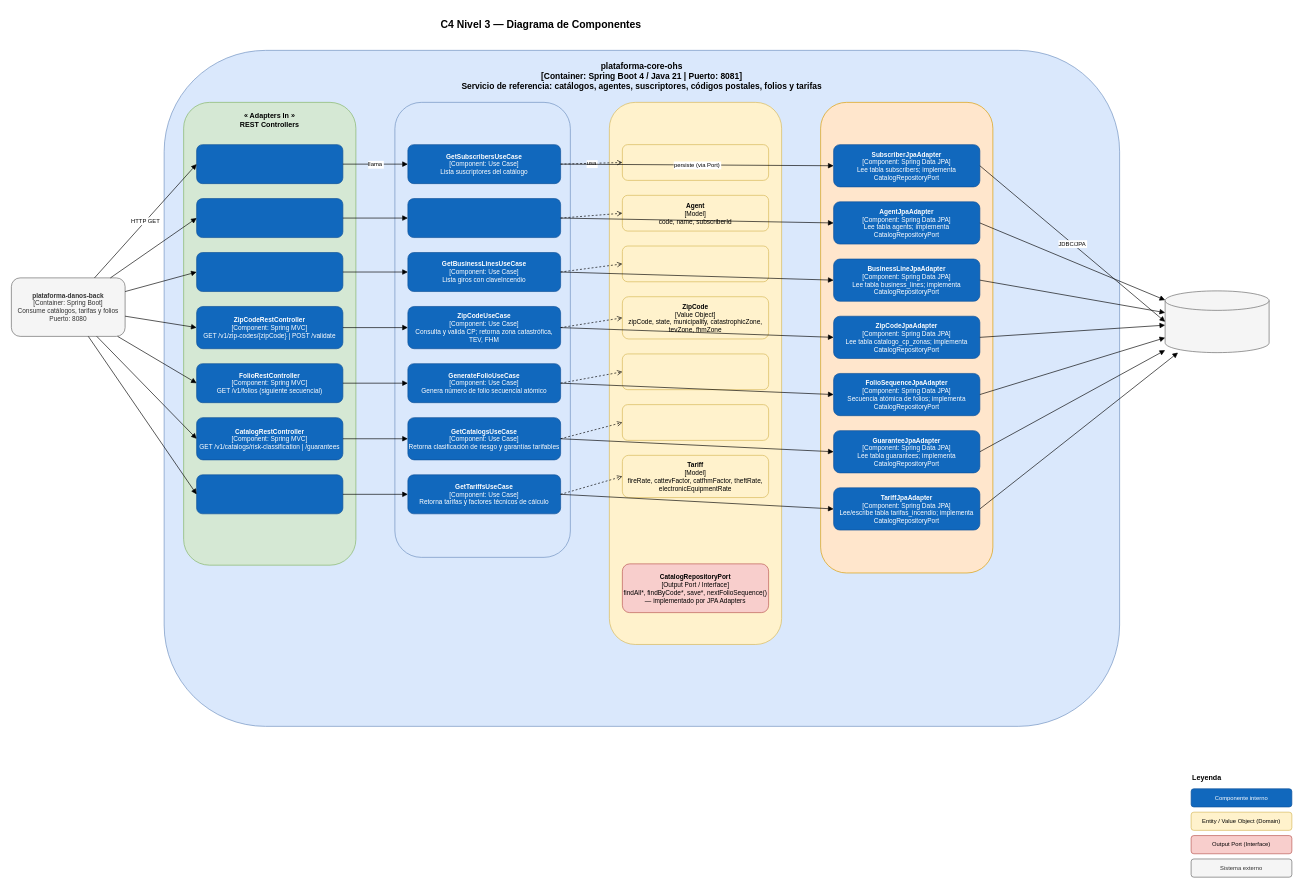
This 1303x889 diagram has some shape labels left out. The shapes that lost their labels are listed below. From the top down, each one's box as (x1, y1, x2, y2) in pixels, then its label:
(196, 144, 343, 184): SubscriberRestController [Component: Spring MVC] GET /v1/subscribers
(622, 144, 769, 180): Subscriber [Model] id, name
(196, 198, 343, 238): AgentRestController [Component: Spring MVC] GET /v1/agents
(407, 198, 561, 238): GetAgentsUseCase [Component: Use Case] Lista agentes y consulta por clave
(196, 252, 343, 292): BusinessLineRestController [Component: Spring MVC] GET /v1/business-lines
(622, 245, 769, 282): BusinessLine [Model] code, description, fireKey
(394, 102, 570, 557): « Application Layer » Use Cases (implementan Input Ports)
(820, 102, 993, 573): « Adapters Out » Persistence (JPA)
(1164, 290, 1269, 353): PostgreSQL [Base de Datos] insurance_core_db Puerto: 5433
(622, 353, 769, 390): Folio [Value Object] folioNumber, generatedAt
(609, 102, 782, 644): « Domain » Entities + Output Ports
(622, 404, 769, 440): Guarantee [Model] code, description, tarifable
(196, 474, 343, 514): TariffRestController [Component: Spring MVC] GET | PUT /v1/tariffs
